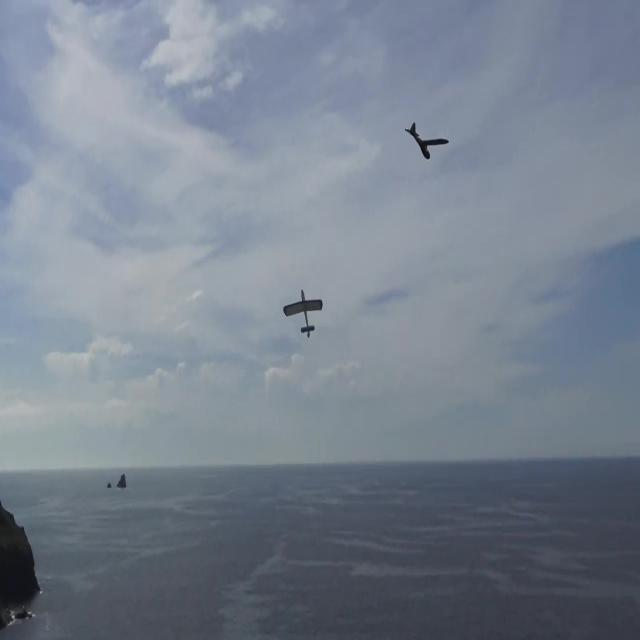iha: (283, 288, 323, 340), (404, 114, 449, 154)
